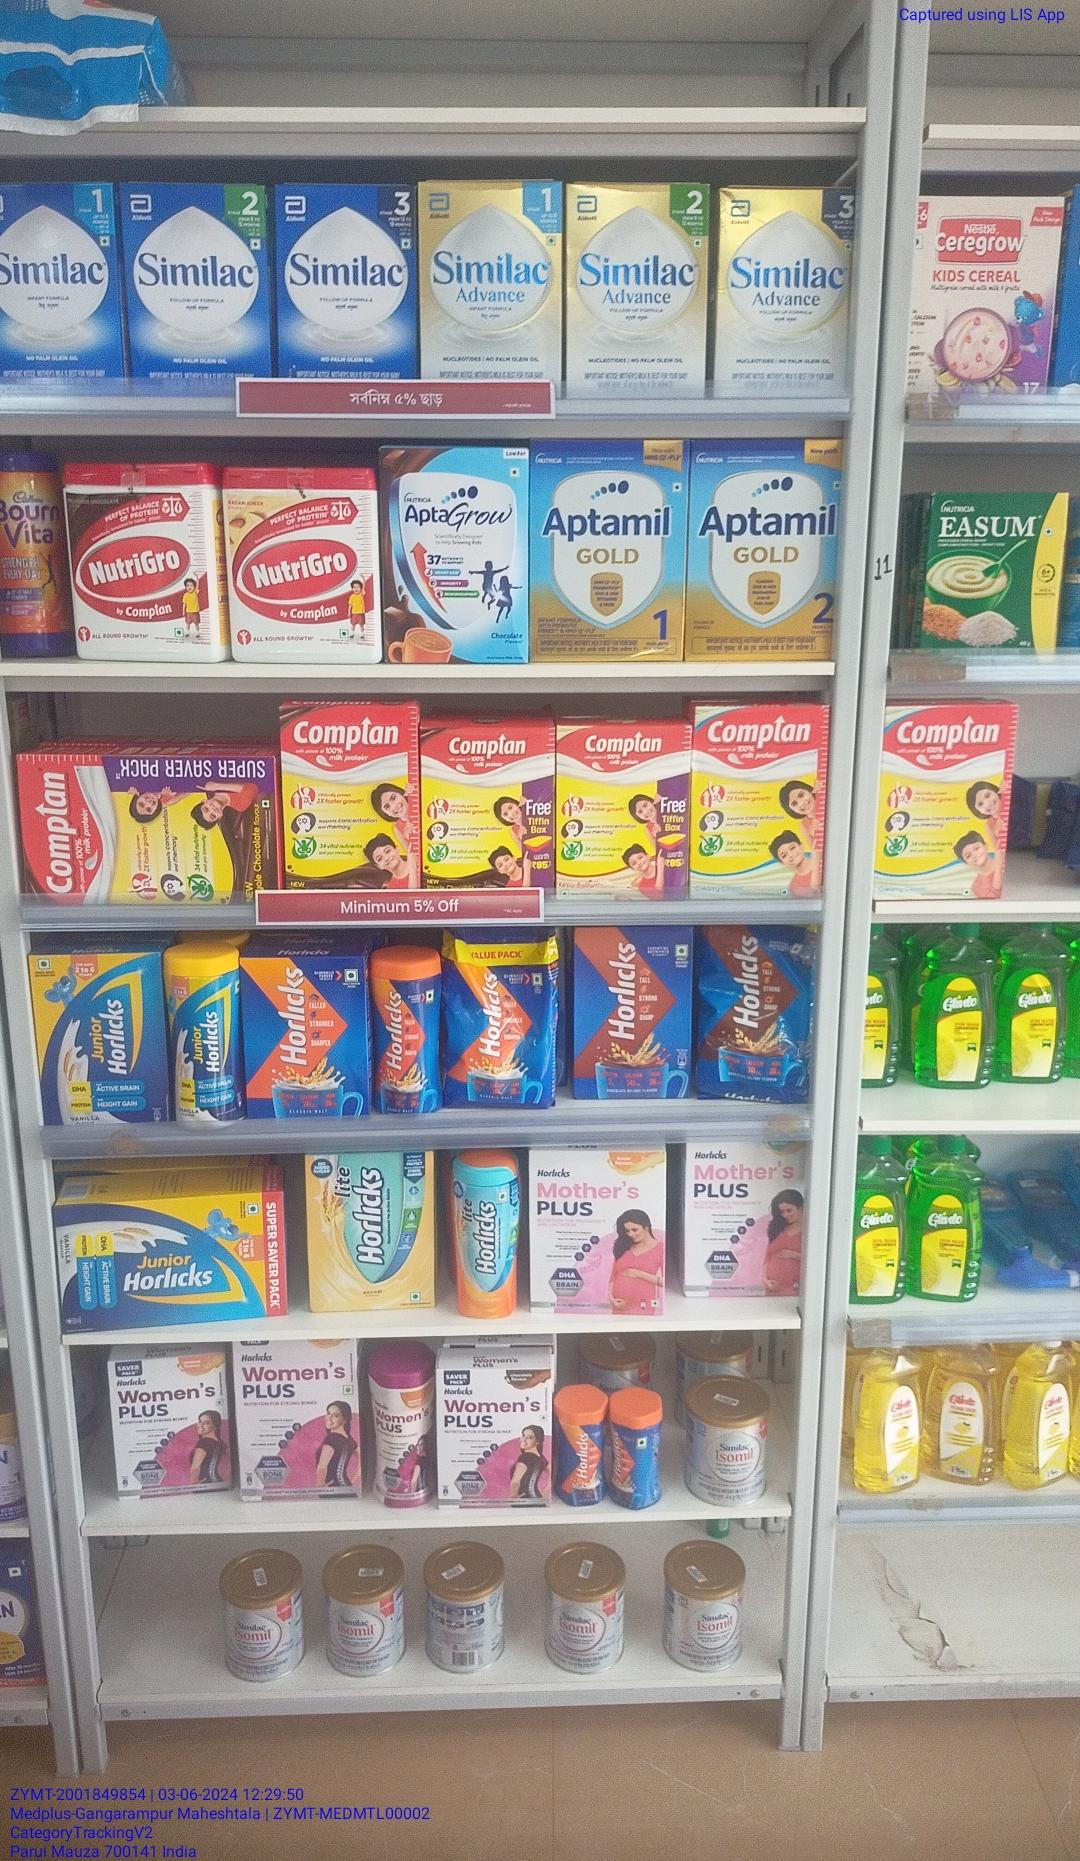BOURN_VITA_500_G_JAR: (0, 456, 66, 662)
HORLICKS_JUNIOR_VANILLA_500_GM_JAR: (171, 942, 242, 1123)
HORLICKS_LITE_REGULAR_MALT_500_GM_JAR: (454, 1152, 519, 1320)
HORLICK_CLASSIC_MALT_200_G_JAR: (554, 1379, 608, 1509), (609, 1391, 648, 1509)
